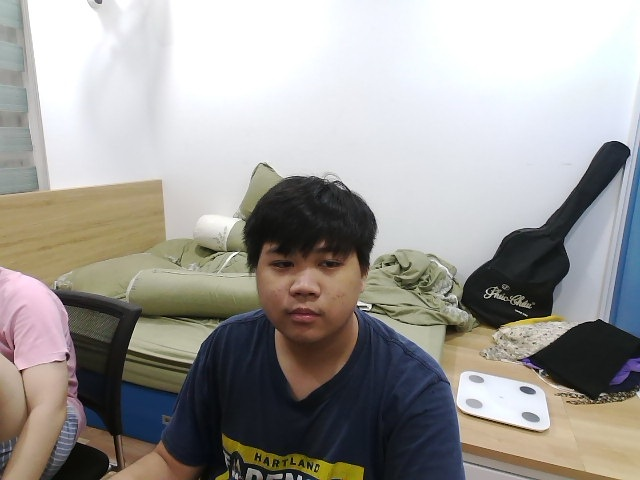face: (243, 177, 380, 344)
